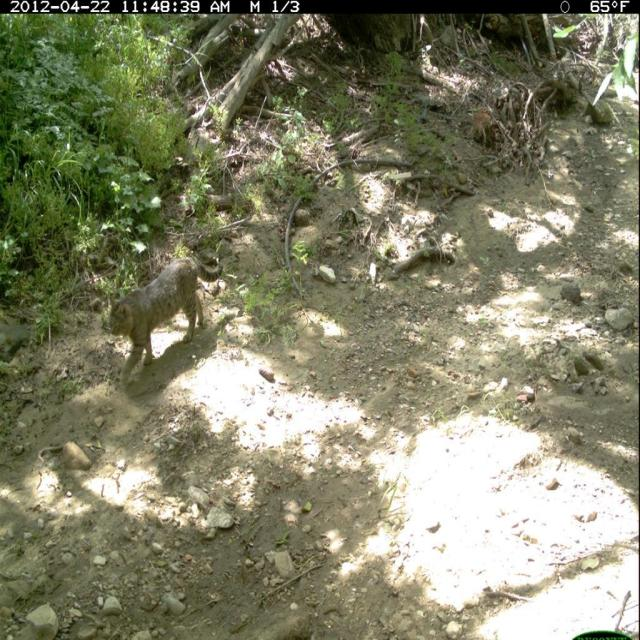cat: (105, 254, 229, 389)
